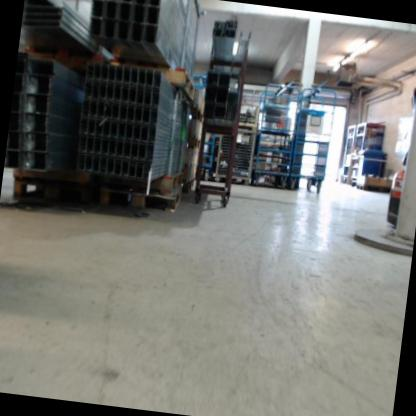pallet: (96, 174, 185, 215), (9, 179, 99, 213), (151, 167, 183, 196), (355, 183, 391, 194), (191, 107, 206, 122), (183, 177, 195, 194), (190, 134, 201, 149)
pallet_truck: (383, 81, 416, 229)
stillage: (215, 129, 260, 186), (229, 99, 261, 134)
